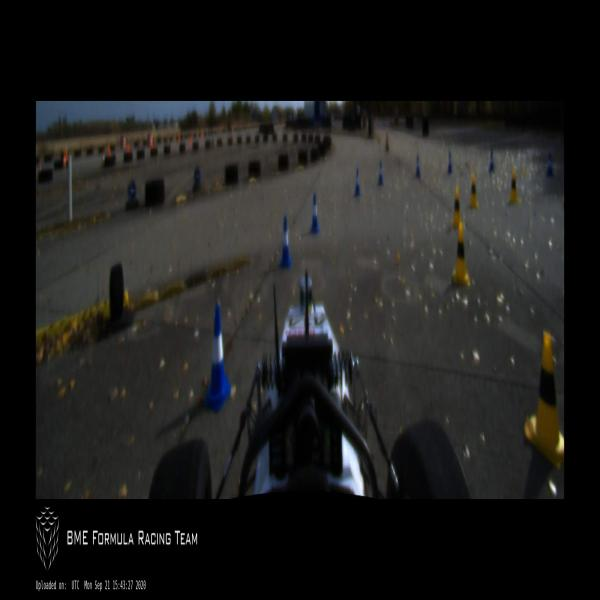blue_cone: (204, 304, 231, 412), (278, 216, 291, 269), (311, 194, 319, 232), (353, 168, 361, 197), (546, 153, 553, 178), (378, 160, 384, 185), (488, 149, 494, 173), (415, 155, 421, 177), (447, 150, 452, 173)
unknown_cone: (385, 129, 390, 152)
yellow_cone: (524, 331, 564, 471), (452, 223, 470, 286), (452, 186, 461, 229), (468, 173, 478, 208), (509, 170, 518, 203)
